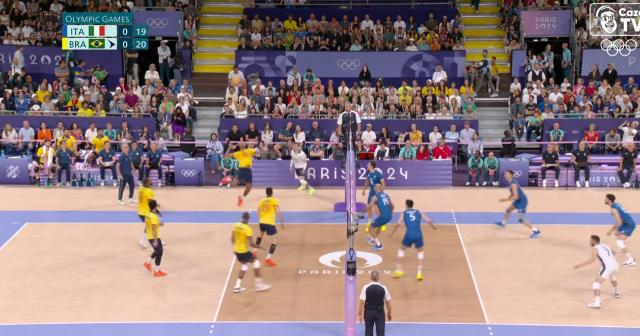Levantador: (144, 200, 166, 278), (365, 160, 383, 196)
Libero: (584, 235, 620, 298), (290, 142, 312, 193)
bola: (234, 75, 242, 91)
